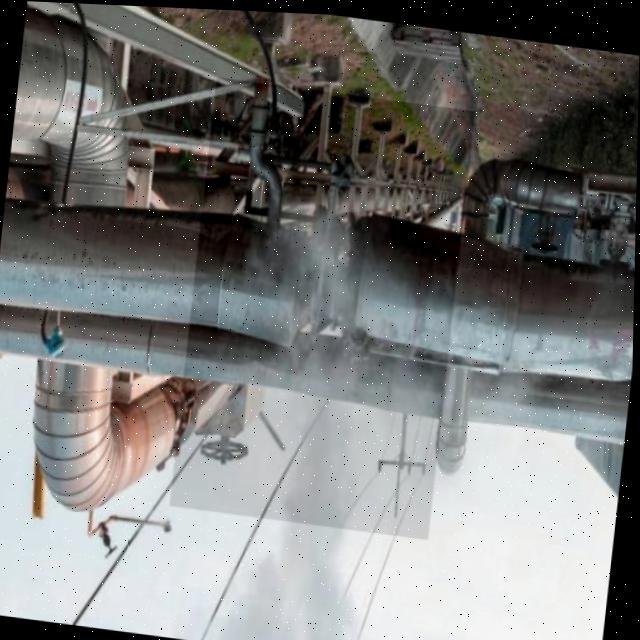corrosion: (169, 77, 474, 539)
